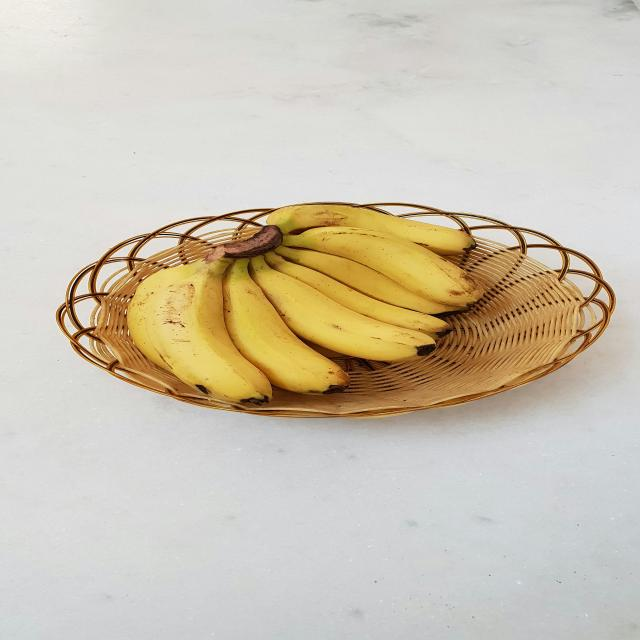banana: (249, 255, 437, 362), (148, 245, 273, 404), (222, 256, 351, 395), (264, 249, 453, 340), (284, 227, 483, 307), (276, 243, 470, 316), (127, 245, 224, 376), (266, 204, 480, 255)
